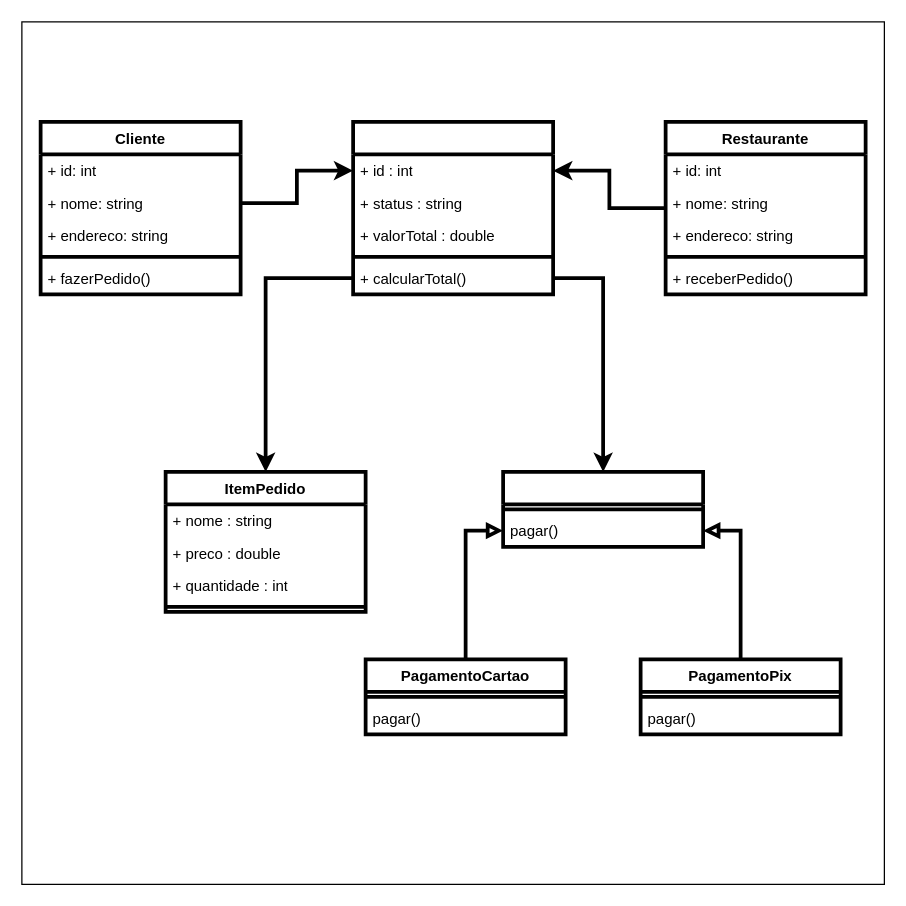
The diagram is 906 pixels wide and 906 high, and some of its shapes have lost their labels. The box of each missing label's shape, as (x1, y1, x2, y2) in pixels:
MetodoPagamento: (501, 469, 704, 548)
Pedido: (351, 119, 554, 296)
